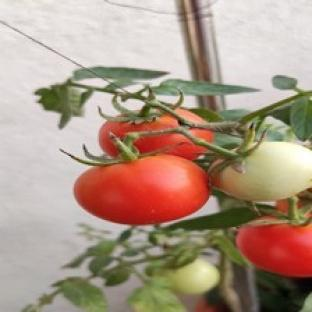Tomato: (74, 155, 210, 225), (214, 143, 311, 200), (236, 225, 311, 277), (99, 115, 179, 157), (162, 258, 220, 293), (194, 300, 229, 311)
